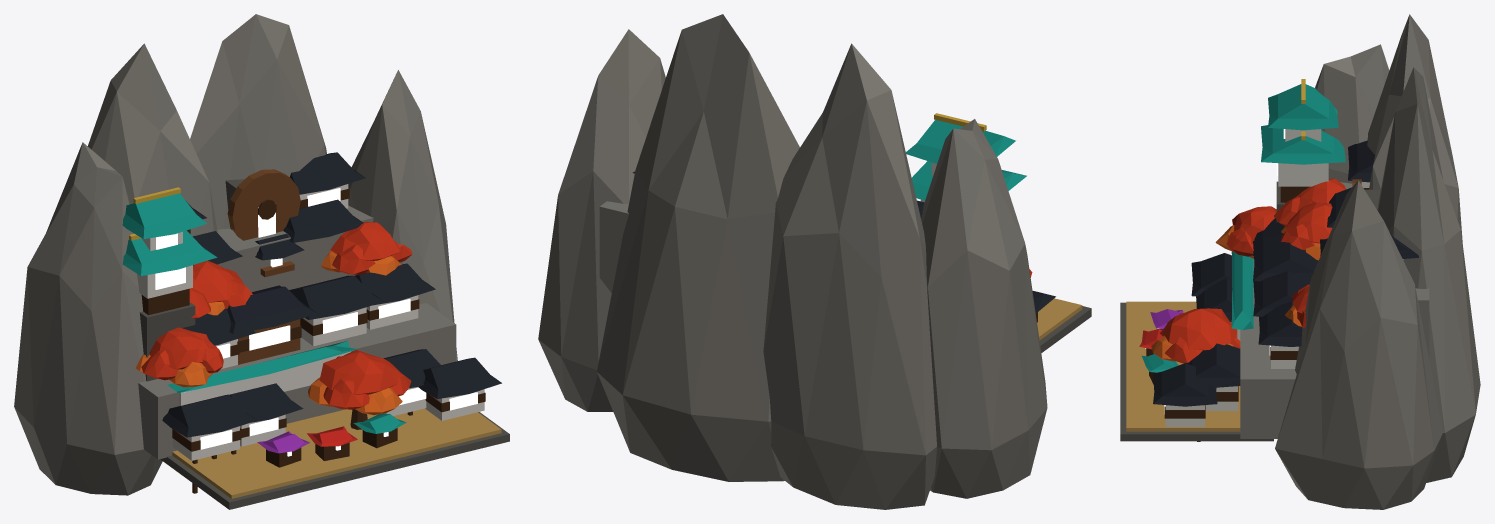
Rendered from tengu-village.glb.
3 views of the same model, side by side, from view 1: azimuth 30°, elevation 25°; view 2: azimuth 150°, elevation 25°; view 3: azimuth 270°, elevation 25° (orthographic). The views are drawn at different scales.
Visible parts, largest first — view 1: TenguVillage_Opaque, TenguVillage_Emissive; view 2: TenguVillage_Opaque; view 3: TenguVillage_Opaque.
Part boxes in pixels (x1,y1,x2,y2): TenguVillage_Opaque: (14,14,509,509); TenguVillage_Emissive: (155,188,477,456); TenguVillage_Opaque: (538,14,1091,509); TenguVillage_Opaque: (1120,14,1480,509).
Size of the model in its own units: 59.35 by 53.31 by 45.77.
